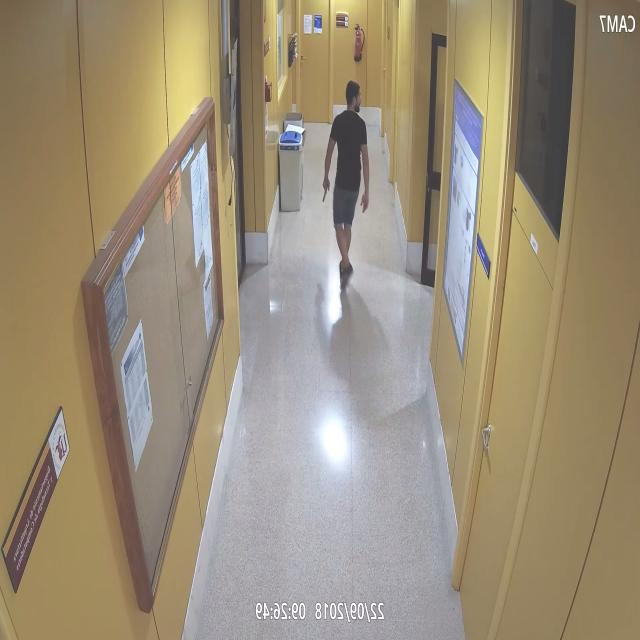pistol: (322, 176, 332, 203)
